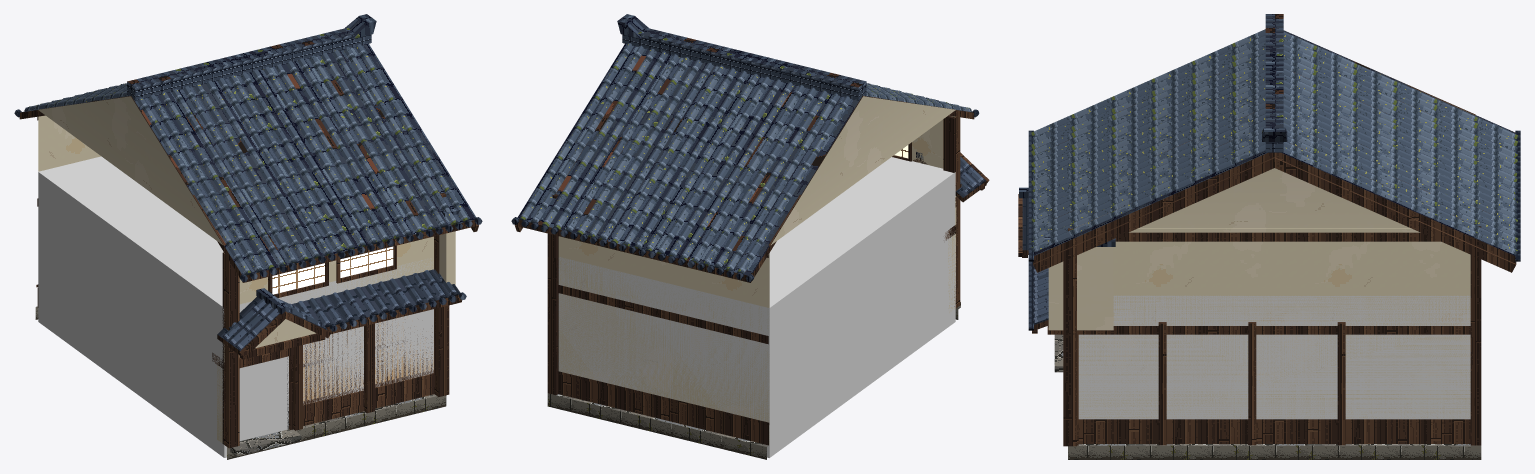
File: JP_Row_House_C_R.glb
3 views of the same model, side by side, from view 1: azimuth 30°, elevation 25°; view 2: azimuth 150°, elevation 25°; view 3: azimuth 270°, elevation 25° (orthographic). The views are drawn at different scales.
Visible parts, largest first — view 1: JP_Row_House_C_R, COL_JP_Row_House_C_R; view 2: JP_Row_House_C_R, COL_JP_Row_House_C_R; view 3: JP_Row_House_C_R, COL_JP_Row_House_C_R.
Part boxes in pixels (bbox=[...]): JP_Row_House_C_R: bbox=[14, 14, 482, 459]; COL_JP_Row_House_C_R: bbox=[38, 156, 433, 457]; JP_Row_House_C_R: bbox=[511, 14, 989, 459]; COL_JP_Row_House_C_R: bbox=[558, 157, 955, 457]; JP_Row_House_C_R: bbox=[1018, 14, 1520, 459]; COL_JP_Row_House_C_R: bbox=[1078, 295, 1470, 419].
Size of the model in its own units: 6.96 by 8.36 by 11.23.
14 materials, 14 textured.
